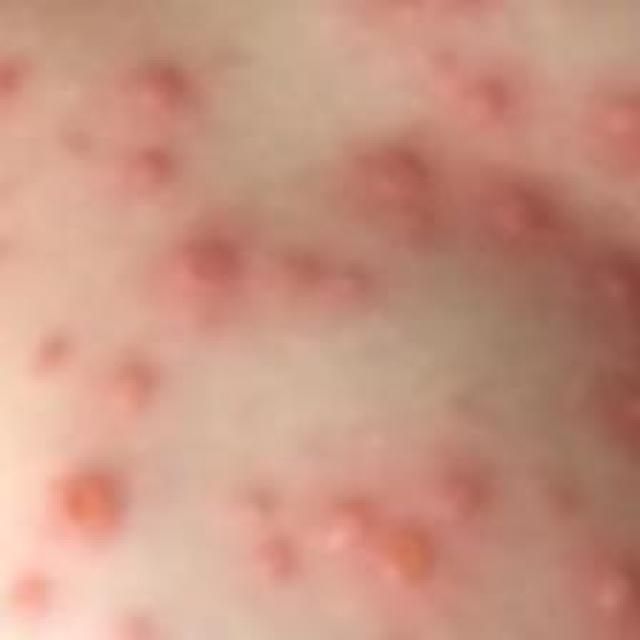others: (34, 56, 640, 634)
